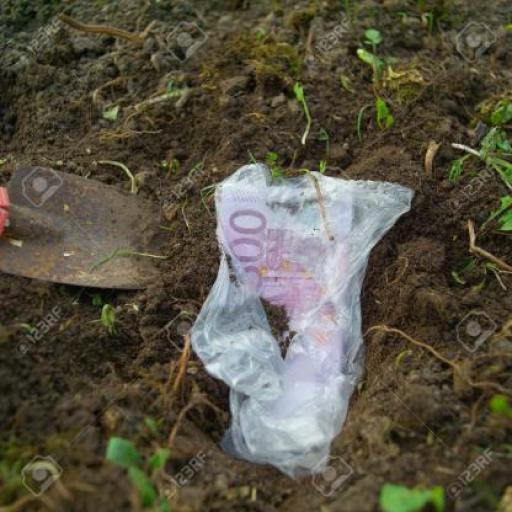plastic bag: (188, 160, 432, 473)
